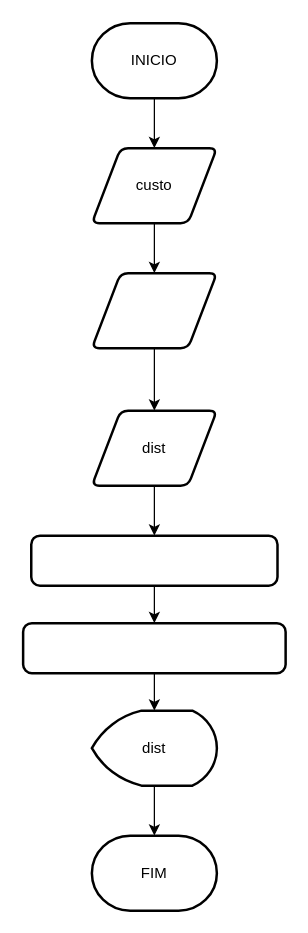
Image size: 308x933. Some labels were removed from this diagram. Here are the shapes that lost their labels. From the top down, the box of each, then its label:
(90, 271, 218, 349): imp
(29, 534, 278, 586): imp = custo * 45/100 + custo
(21, 621, 286, 674): dist = imp * 28/100 + imp
